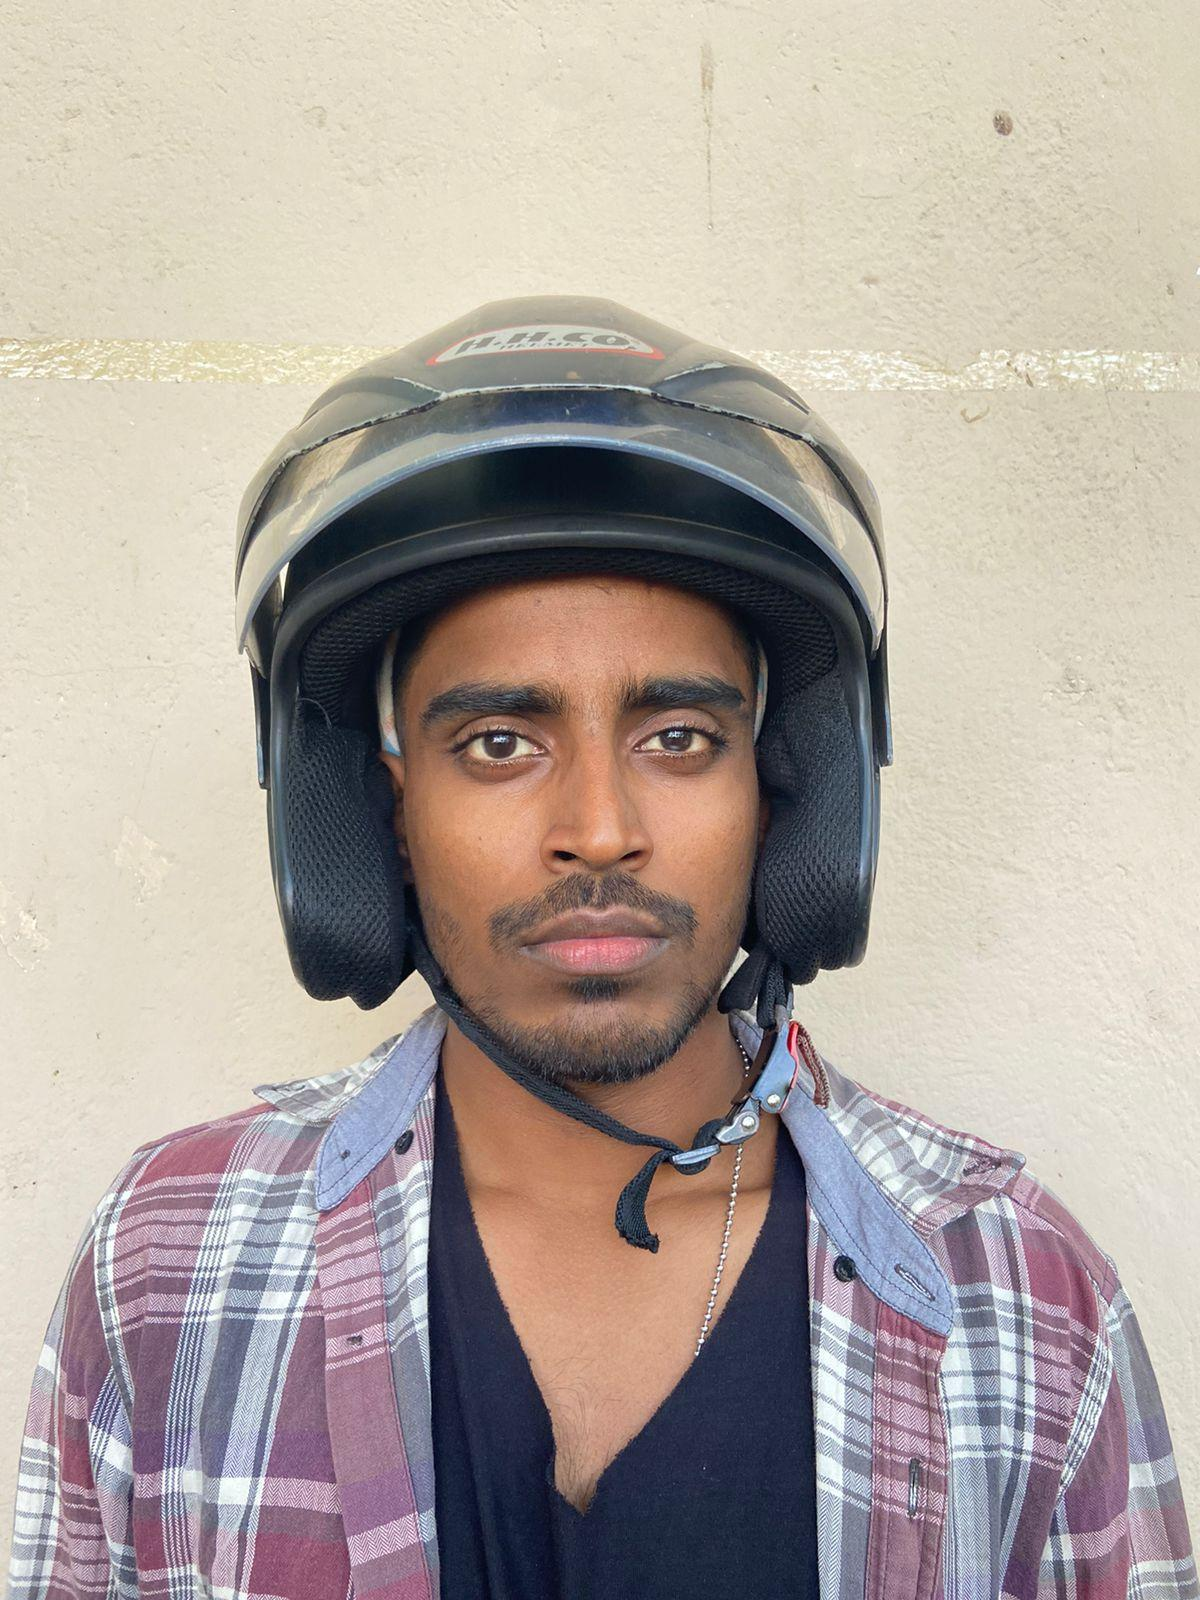helmet: (229, 296, 896, 1012)
